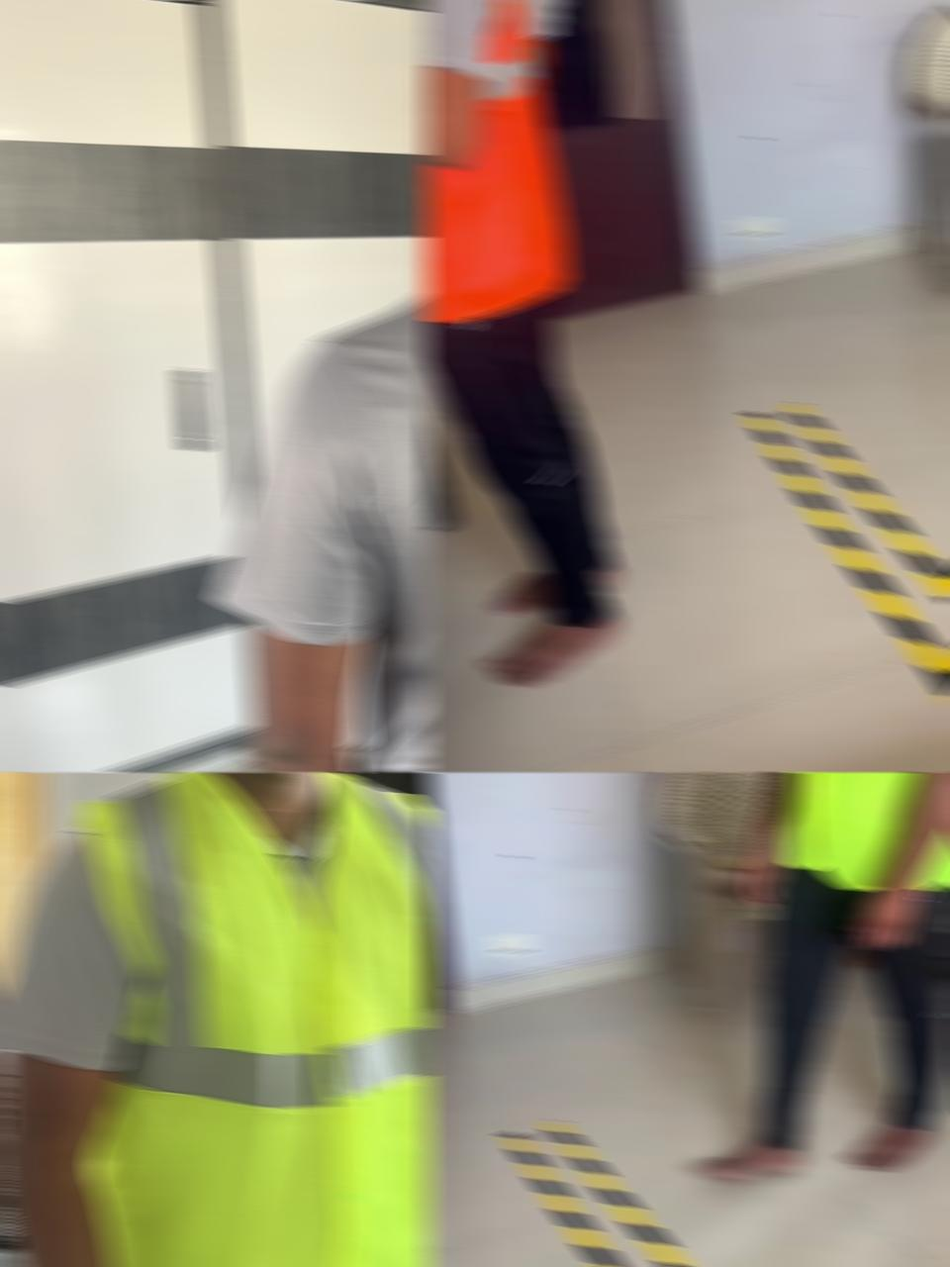BorderLine: (746, 398, 950, 718), (497, 1119, 813, 1267)
No_Vest: (210, 219, 432, 772)
Person: (0, 772, 432, 1267), (209, 0, 432, 772), (423, 0, 625, 691), (687, 772, 950, 1181)
Vest: (75, 772, 432, 1267), (423, 0, 574, 320), (776, 772, 950, 890)
